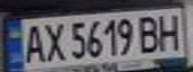1: (103, 16, 121, 56)
5: (66, 18, 87, 61)
6: (84, 17, 106, 59)
9: (115, 15, 139, 56)
A: (18, 21, 48, 64)
B: (136, 12, 163, 54)
H: (154, 11, 184, 52)
X: (39, 19, 66, 63)
